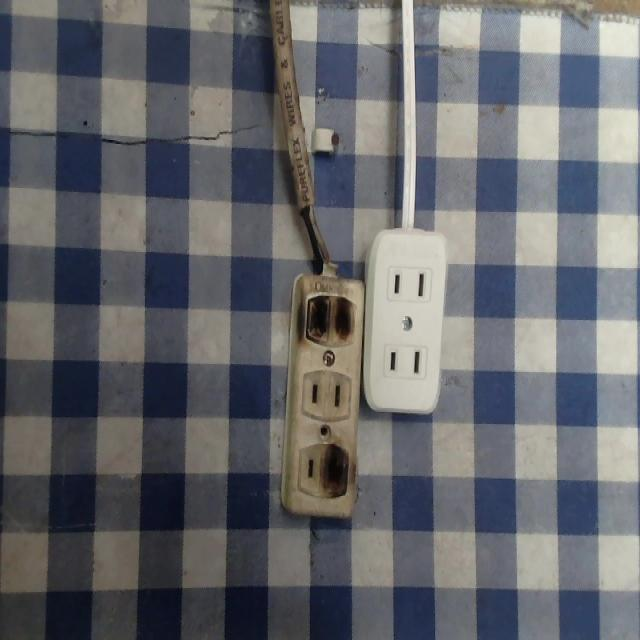-: (300, 291, 357, 348), (321, 443, 352, 500)
